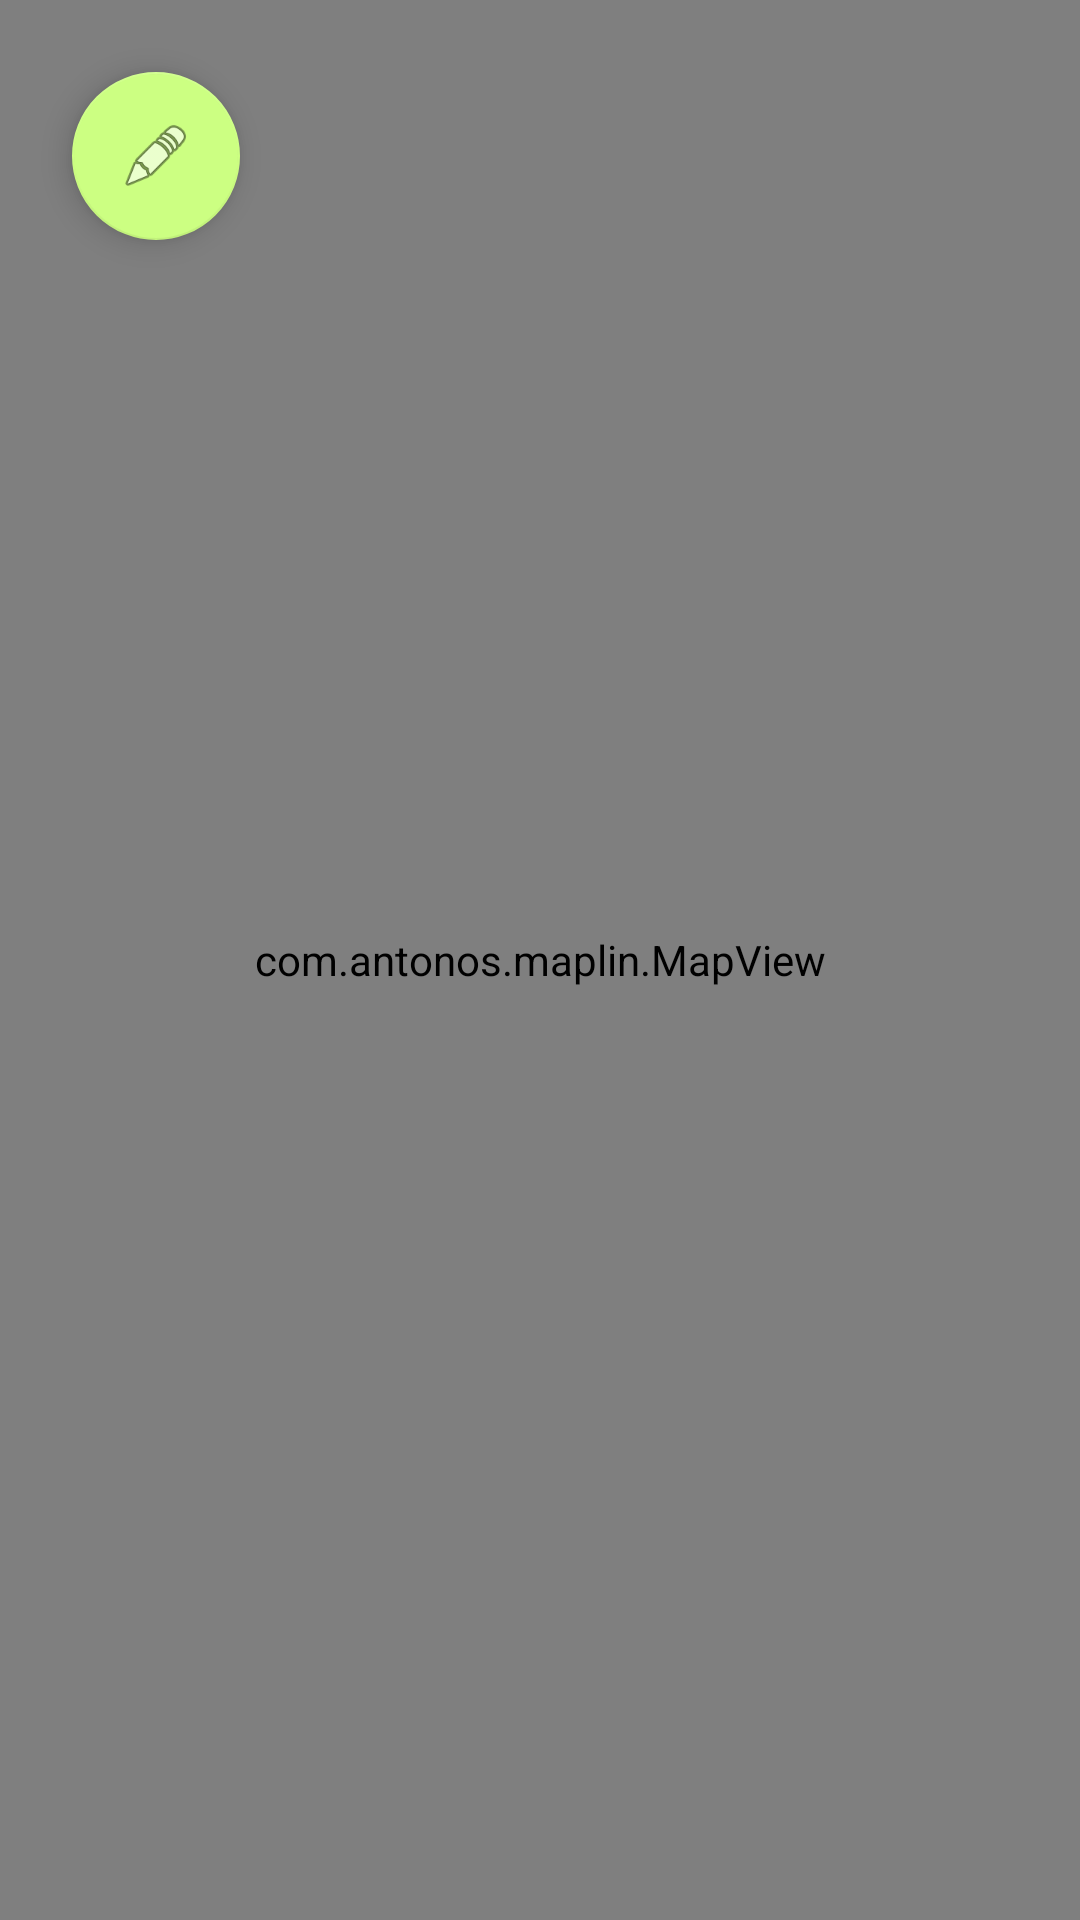

Named icons in this screenshot (1080w x 1920h) and their bounding boxes, (x1, y1, x2, y2):
edit: (72, 72, 240, 240)
